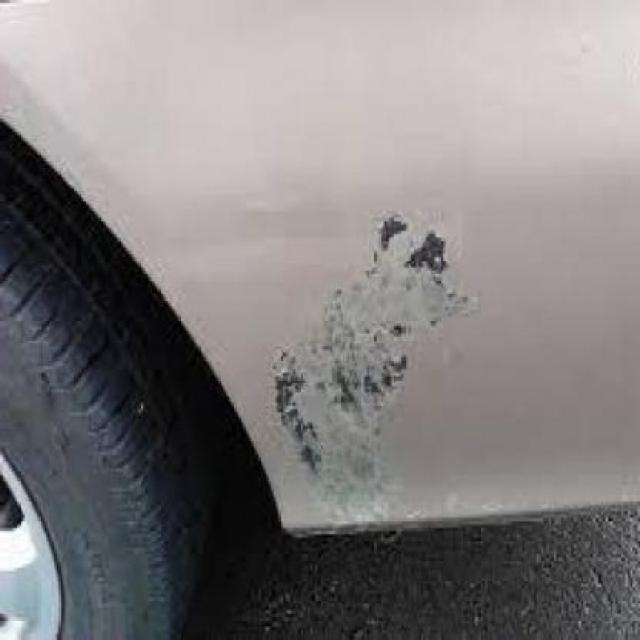damage: (266, 195, 478, 531)
